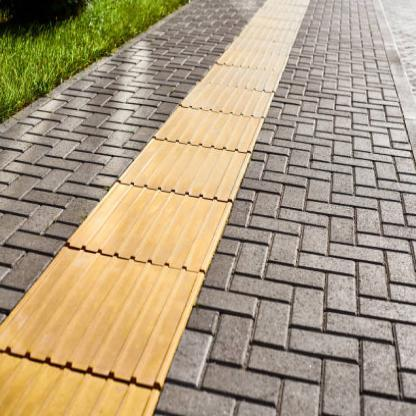podotacti: (0, 0, 308, 414)
